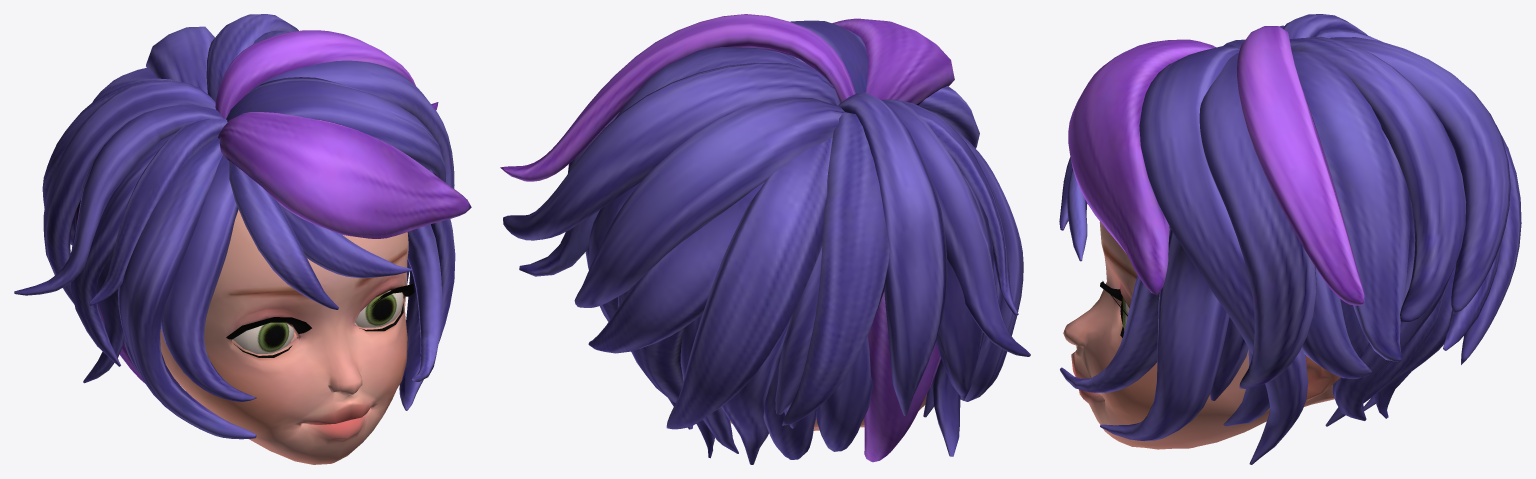
File: avatar_head.glb
3 renders of one model, left to right at view 1: azimuth 30°, elevation 25°; view 2: azimuth 150°, elevation 25°; view 3: azimuth 270°, elevation 25°, orthographic. The views are drawn at different scales.
Parts seen in each view (by area): view 1: head; view 2: head; view 3: head.
Part boxes in pixels (x1=…): head: x1=14, y1=14, x2=471, y2=464; head: x1=500, y1=14, x2=1030, y2=464; head: x1=1059, y1=14, x2=1521, y2=464.
Bounding box in the file's own units: 0.2667 × 0.2161 × 0.2173.
1 material, 1 textured.
